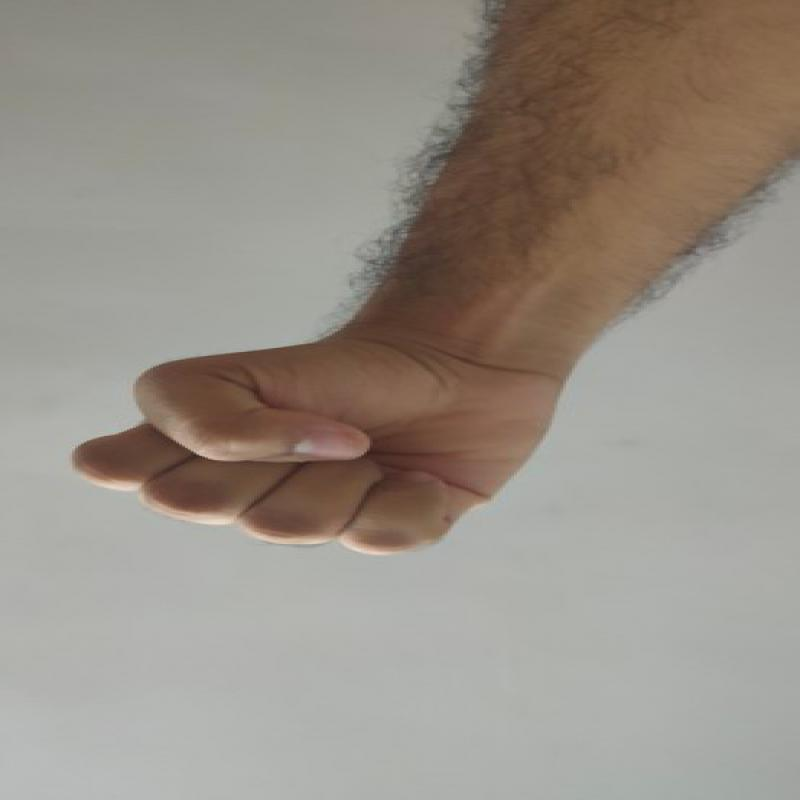Mushti: (67, 320, 564, 596)
